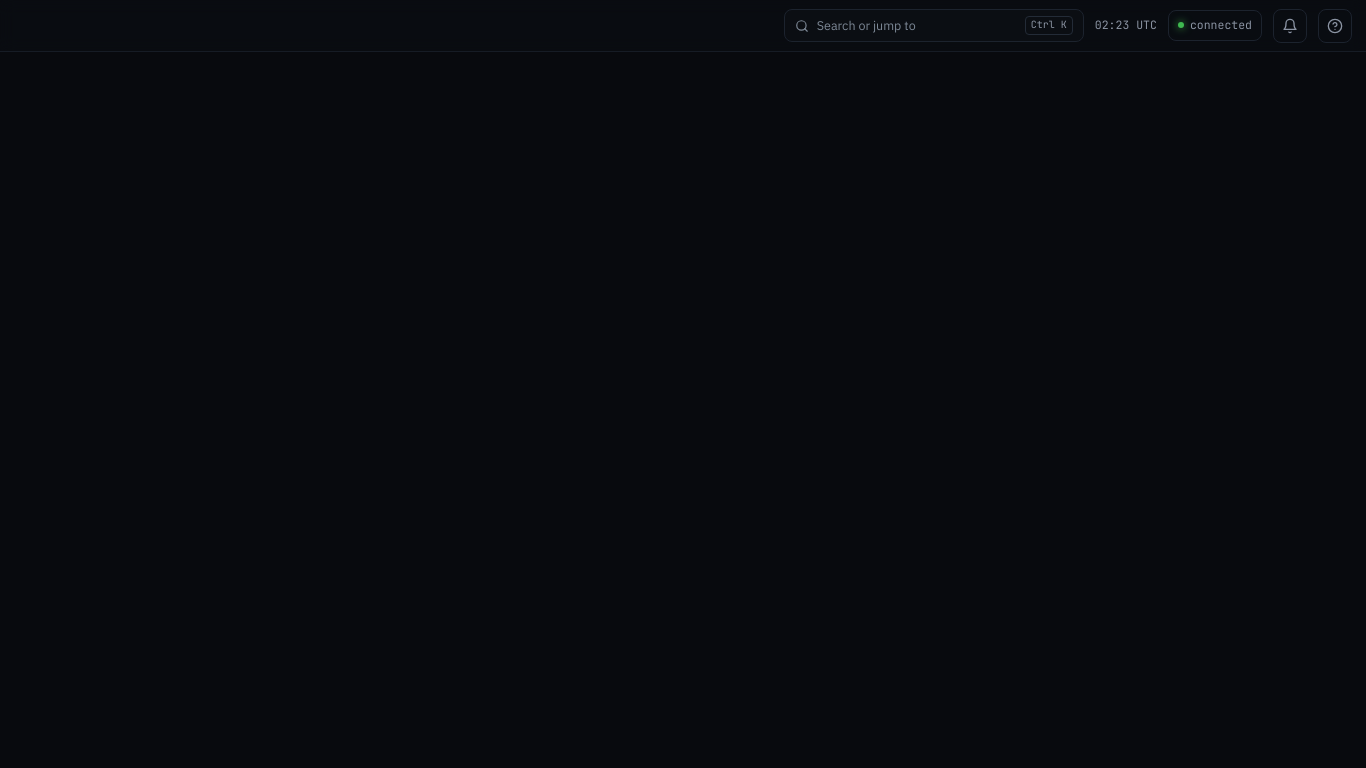
it: Topbar badge states the needs-you count › does not badge when nothing needs the analyst and no row is urgent
Click the button named "Notifications" at (1290, 26), box [1273,8,1307,42]
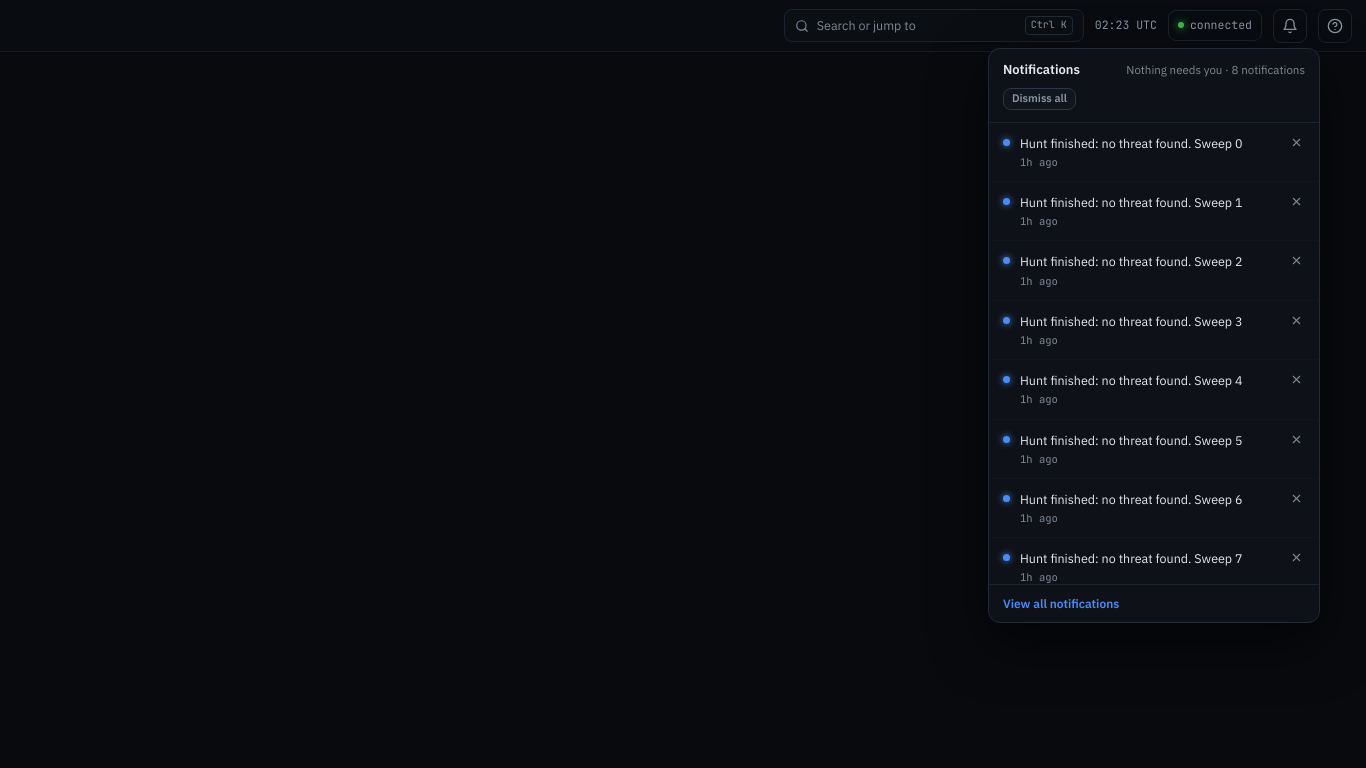
Check: the text with test id "notif-summary" reads "Nothing needs you · 8 notifications", box [1126,62,1305,77]
